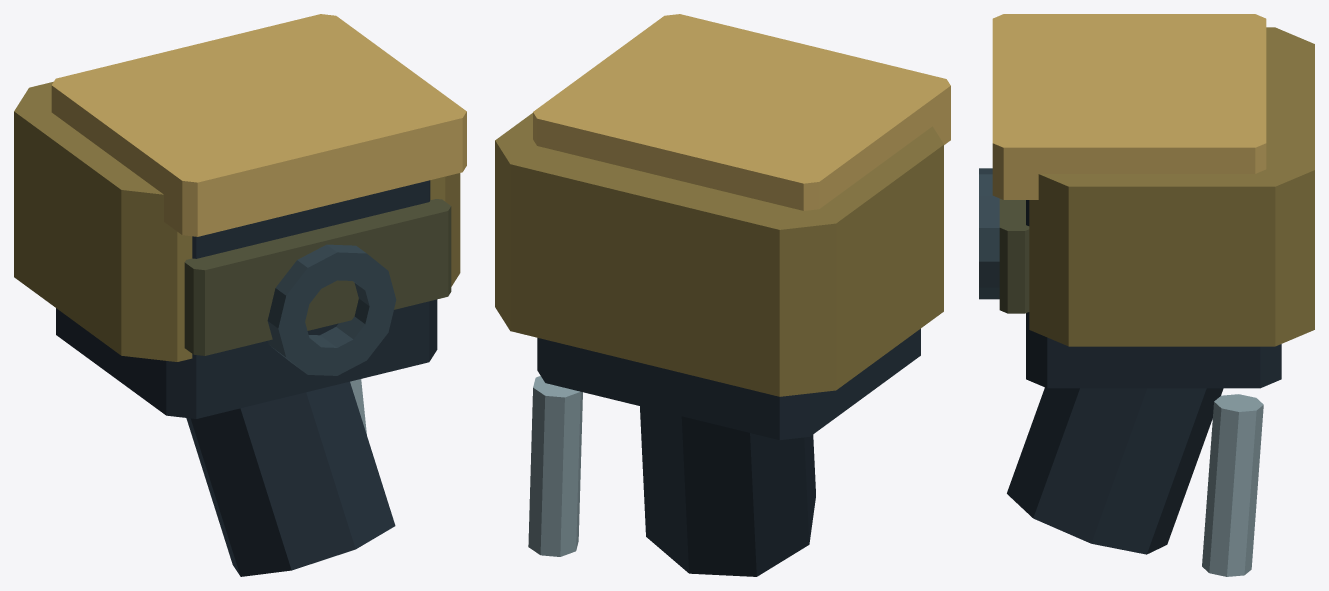
Rendered from enemy_gunner_upper_arm_r.obj.
3 renders of one model, left to right at view 1: azimuth 30°, elevation 25°; view 2: azimuth 150°, elevation 25°; view 3: azimuth 270°, elevation 25°, orthographic. The views are drawn at different scales.
Size of the model in its own units: 0.62 by 0.8144 by 0.5525.
